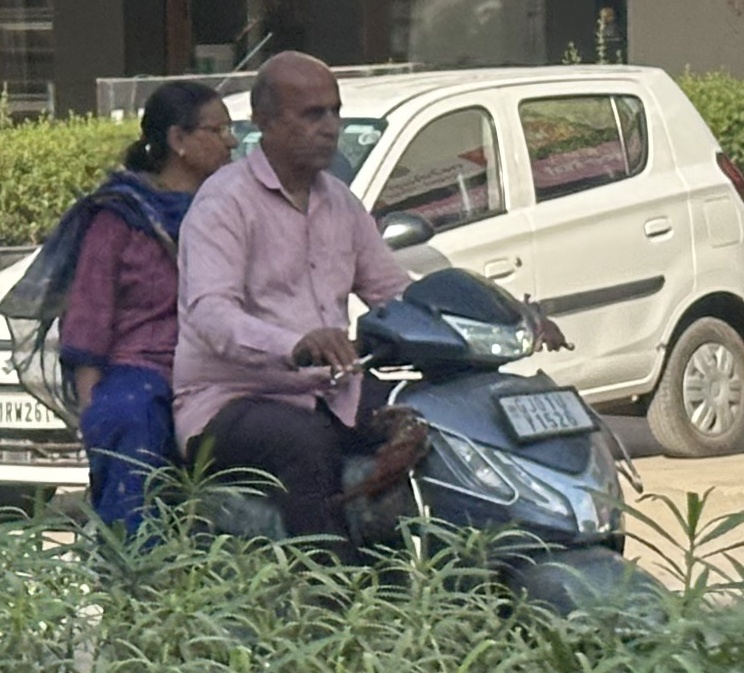BikeWithRider: (23, 43, 705, 671)
NoHelmet: (235, 47, 351, 180), (131, 72, 243, 184)
